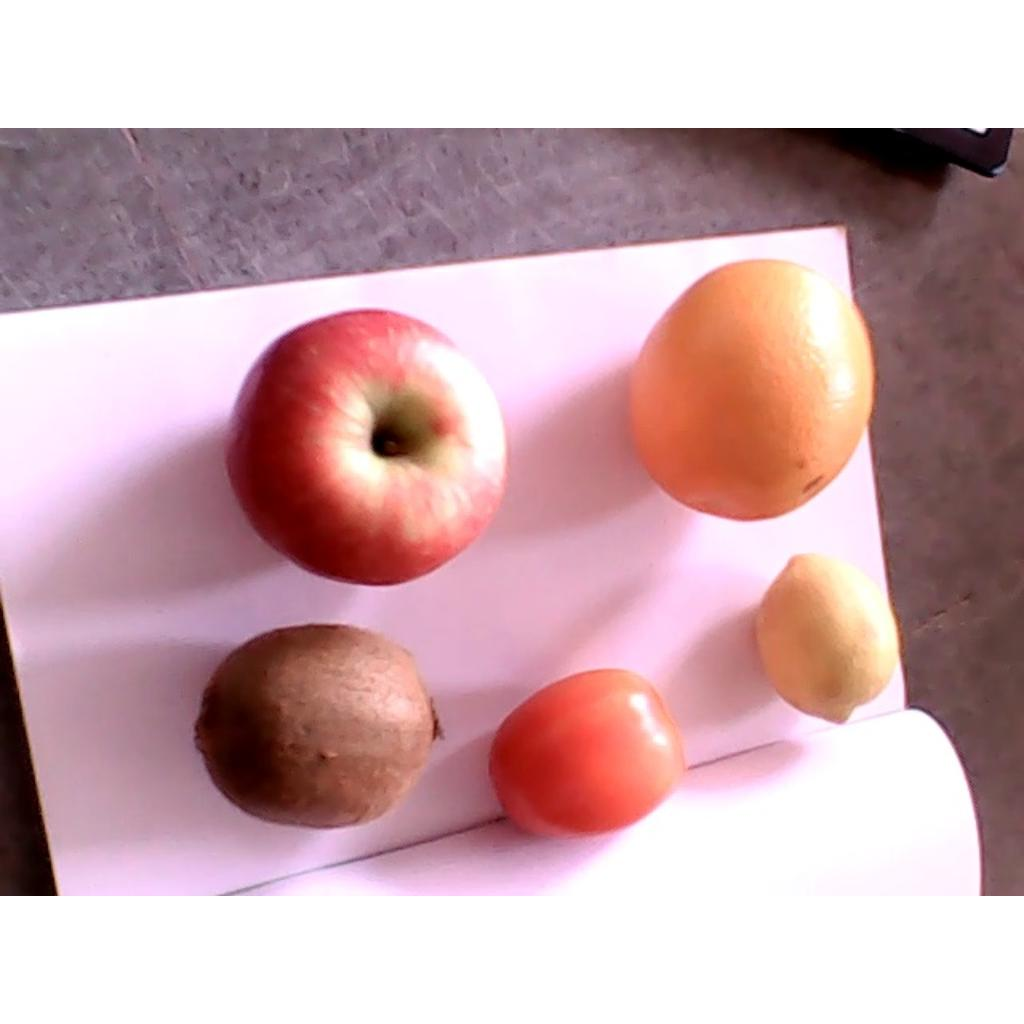apple: (227, 308, 509, 586)
kiwi: (190, 623, 450, 830)
lemon: (754, 553, 899, 724)
orange: (628, 260, 875, 518)
tomato: (489, 670, 688, 837)
